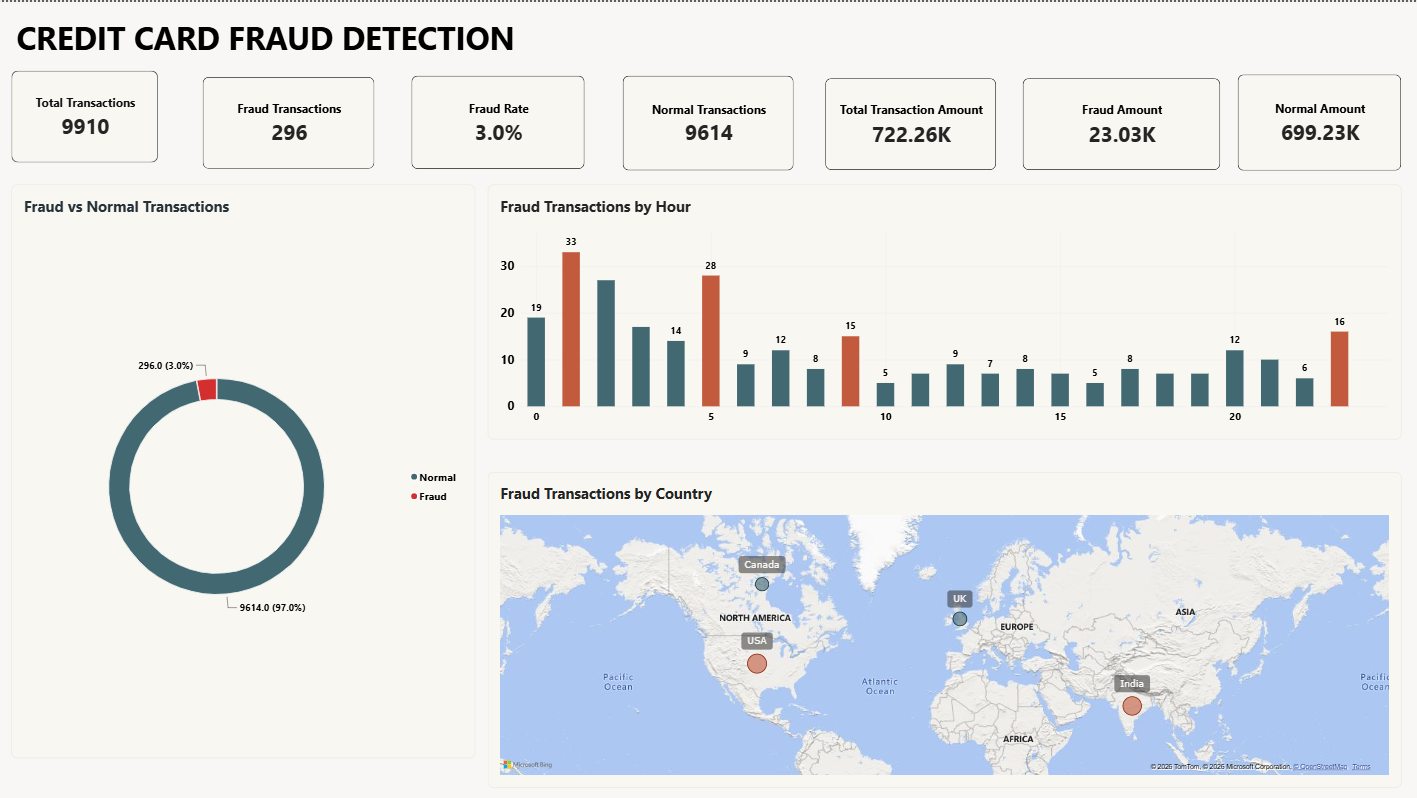

This screenshot's page, from the dashboard's own definition file:
{"tool":"powerbi","page":{"name":"Fraud Overview","canvas":[1920,1080],"ordinal":0},"visuals":[{"type":"cardVisual","fields":{"Data":["credit_card_fraud_cleaned.Fraud Transactions"]},"box":[275.1,100.9,232.9,124.7],"z":0},{"type":"cardVisual","fields":{"Data":["credit_card_fraud_cleaned.Total Transactions"]},"box":[16.5,93.5,198.1,124.7],"z":1000},{"type":"cardVisual","fields":{"Data":["credit_card_fraud_cleaned.Fraud Rate"]},"box":[557.6,99,234.8,126.6],"z":2000},{"type":"cardVisual","fields":{"Data":["credit_card_fraud_cleaned.Normal Transactions"]},"box":[843.8,99,231.1,128.4],"z":3000},{"type":"cardVisual","fields":{"Data":["credit_card_fraud_cleaned.Total Transaction Amount"]},"box":[1117.1,102.7,231.1,124.7],"z":4000},{"type":"cardVisual","fields":{"Data":["credit_card_fraud_cleaned.Fraud Amount"]},"box":[1384.9,102.7,267.8,124.7],"z":5000},{"type":"cardVisual","fields":{"Data":["credit_card_fraud_cleaned.Normal Amount"]},"box":[1674.7,97.2,221.9,130.2],"z":6000},{"type":"donutChart","title":"Fraud vs Normal Transactions","fields":{"Category":["credit_card_fraud_cleaned.Transaction Type"],"Y":["credit_card_fraud_cleaned.Total Transactions"]},"box":[16.5,247.6,627.3,775.9],"z":7000},{"type":"clusteredColumnChart","fields":{"Y":["credit_card_fraud_cleaned.Fraud Transactions"],"Category":["credit_card_fraud_cleaned.Hour"]},"box":[660.3,247.6,1236.3,344.8],"z":8000},{"type":"textbox","box":[0,18.3,879.5,59.7],"z":9000},{"type":"map","title":" Fraud Transactions by Country   ","fields":{"Size":["credit_card_fraud_cleaned.Fraud Transactions"],"Category":["credit_card_fraud_cleaned.country"]},"box":[660.3,636.5,1236.3,427.4],"z":10000}]}

Visuals, with their boxes in screenshot pixels (x1, y1, x2, y2), scaled from the page's 1920x1080 canvas onto the 1417x798 screenshot:
cardVisual - credit_card_fraud_cleaned.Fraud Transactions: l=203, t=75, r=375, b=167
cardVisual - credit_card_fraud_cleaned.Total Transactions: l=12, t=69, r=158, b=161
cardVisual - credit_card_fraud_cleaned.Fraud Rate: l=412, t=73, r=585, b=167
cardVisual - credit_card_fraud_cleaned.Normal Transactions: l=623, t=73, r=793, b=168
cardVisual - credit_card_fraud_cleaned.Total Transaction Amount: l=824, t=76, r=995, b=168
cardVisual - credit_card_fraud_cleaned.Fraud Amount: l=1022, t=76, r=1220, b=168
cardVisual - credit_card_fraud_cleaned.Normal Amount: l=1236, t=72, r=1400, b=168
"Fraud vs Normal Transactions" donutChart: l=12, t=183, r=475, b=756
clusteredColumnChart - credit_card_fraud_cleaned.Fraud Transactions x credit_card_fraud_cleaned.Hour: l=487, t=183, r=1400, b=438
textbox: l=0, t=14, r=649, b=58
" Fraud Transactions by Country   " map: l=487, t=470, r=1400, b=786
